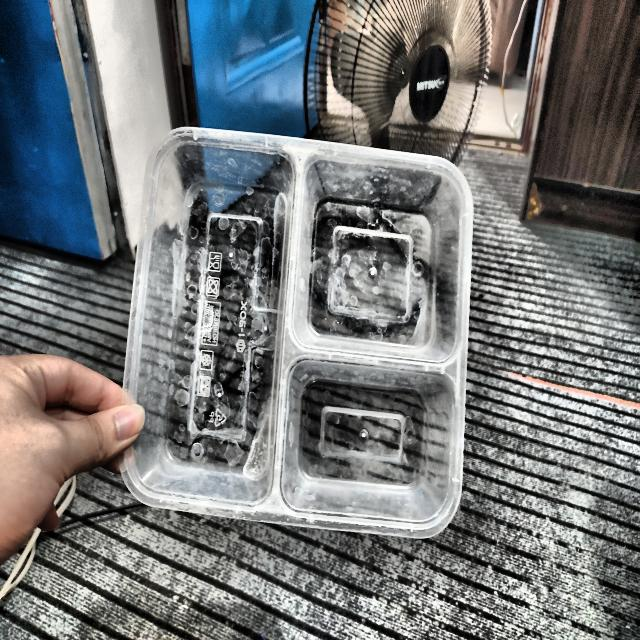plastic container: (124, 128, 472, 538)
